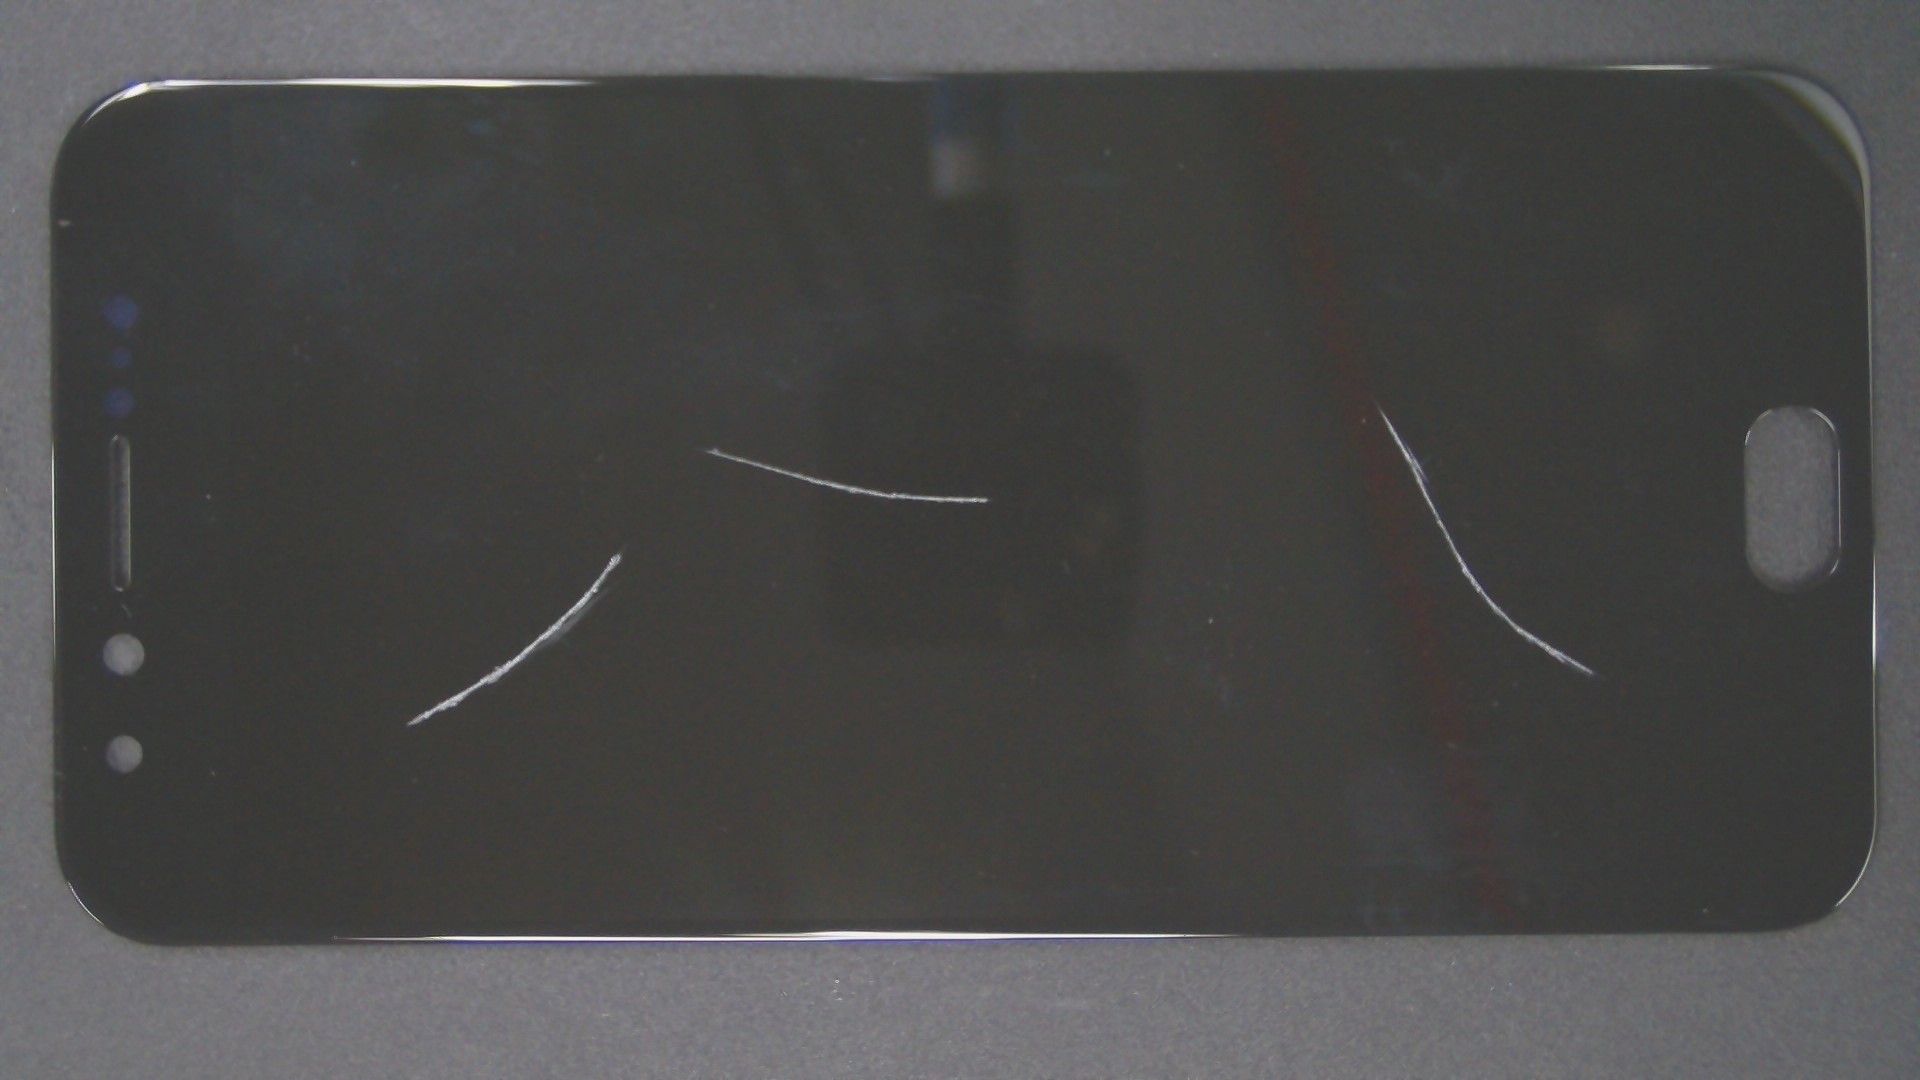oil: (688, 203, 1920, 611), (310, 276, 930, 828), (357, 223, 1072, 673)
